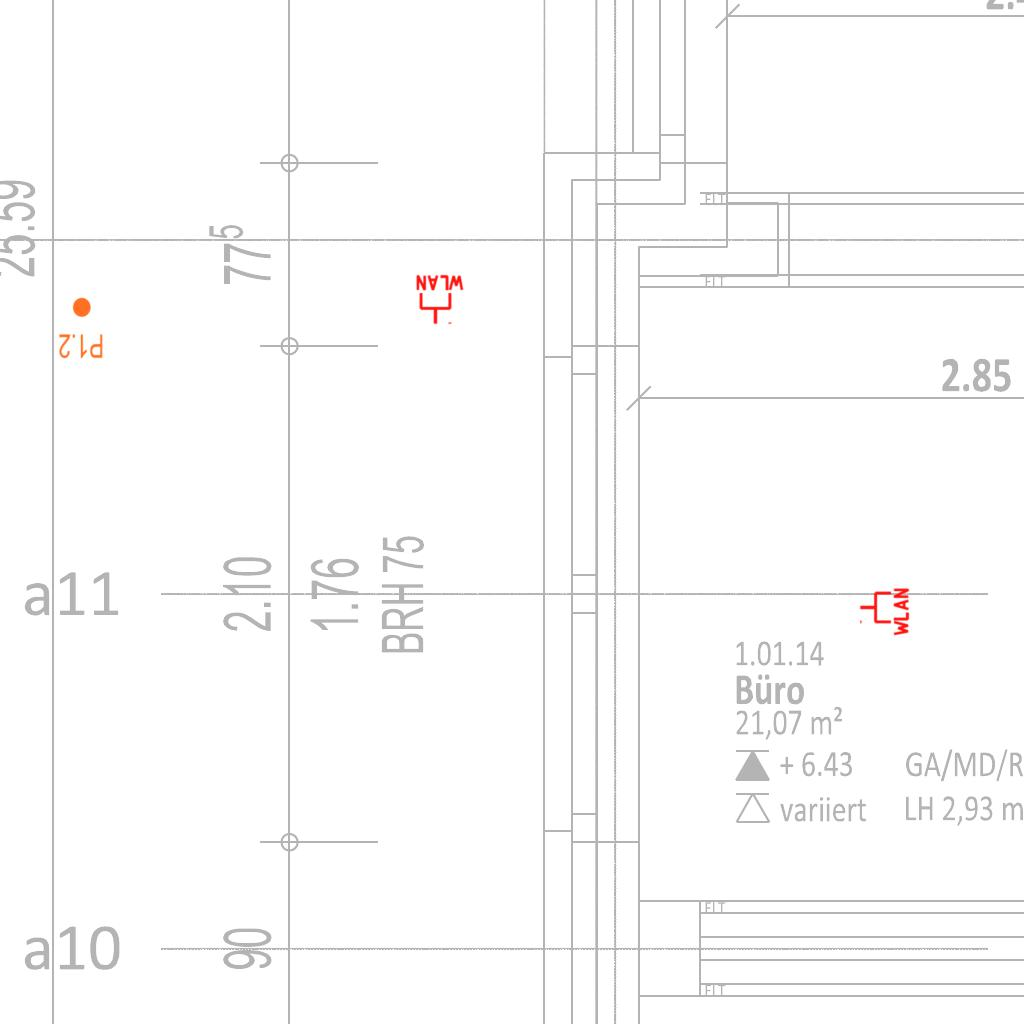Downlight_LED_Einbauleuchten_Flur: (58, 296, 104, 360)
WLAN: (414, 274, 466, 326), (858, 586, 910, 638)
